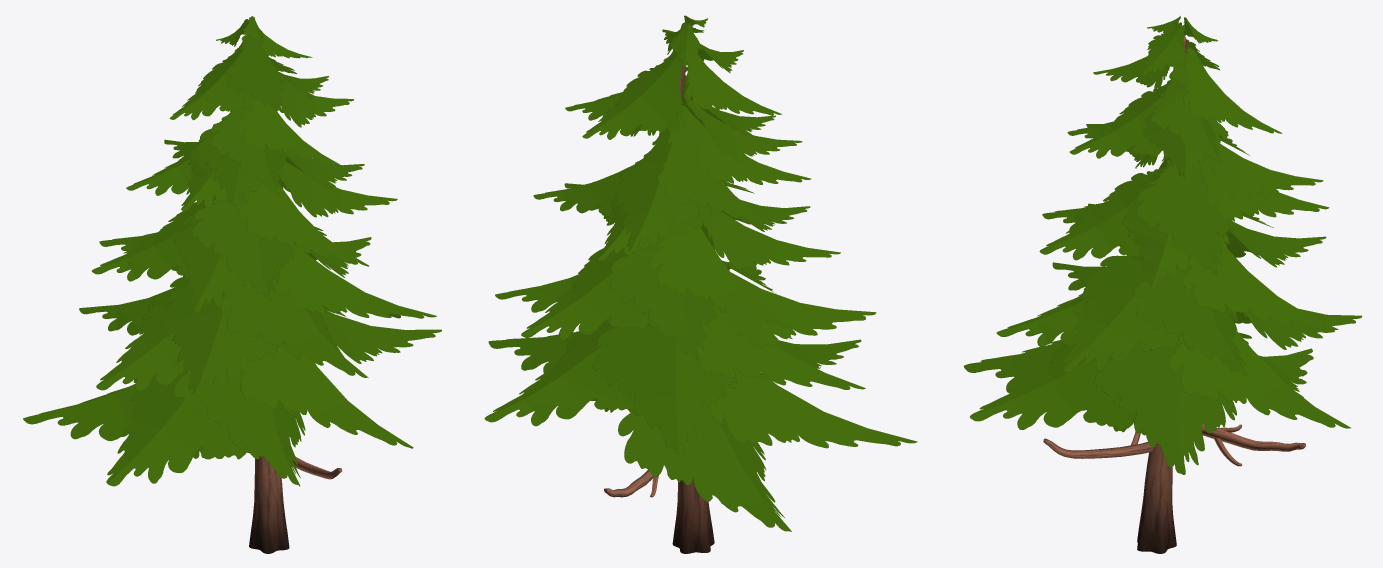
Rendered from Pine_2.glb.
The picture shows the model from 3 angles, left to right: view 1: azimuth 30°, elevation 25°; view 2: azimuth 150°, elevation 25°; view 3: azimuth 270°, elevation 25°; orthographic projection. The views are drawn at different scales.
Bounding box in the file's own units: 5.73 × 7.38 × 5.22.
Materials: 2 (2 with a texture image).
